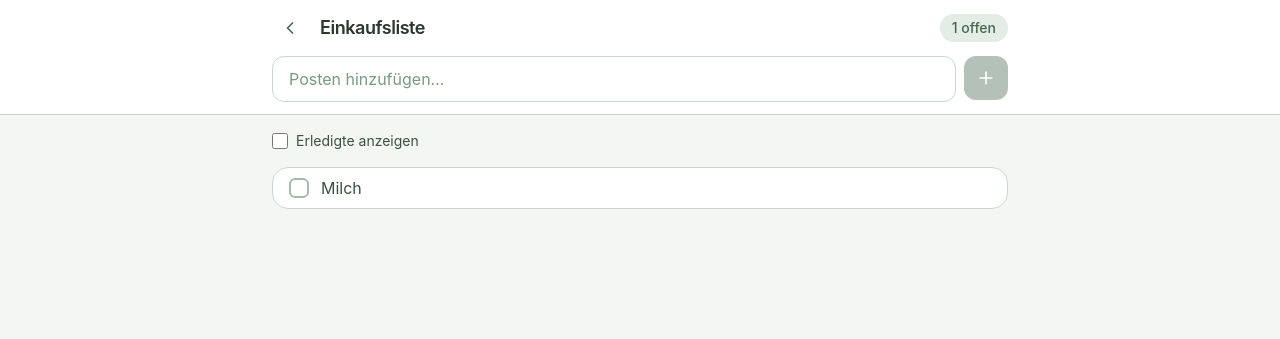
Test: Einkaufsliste-Detailseite › live-inserts a newly completed item by completedAt, not by its (unrelated) createdAt
Click the checkbox labelled "Erledigte anzeigen". click: {"x": 280, "y": 141}
box: [272,133,288,149]
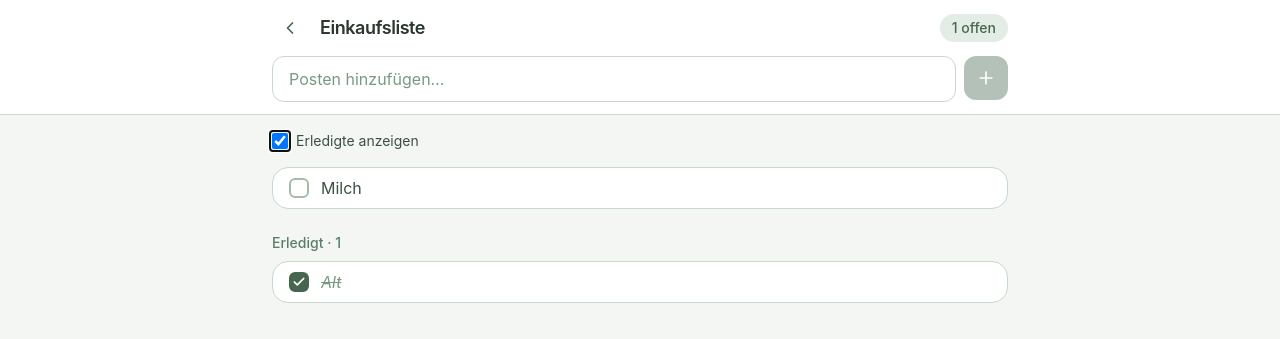
Expected: the button named "Alt wieder öffnen" is shown, [289,272,309,292]
Click the button named "Milch abhaken". click: {"x": 299, "y": 188}
box: [289,178,309,198]
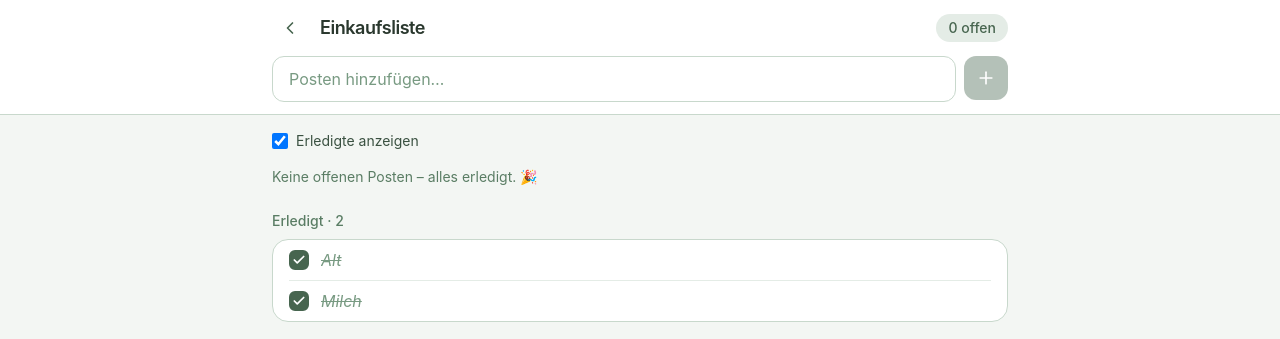
Expected: the button named "Milch wieder öffnen" is shown, [289,291,309,311]
